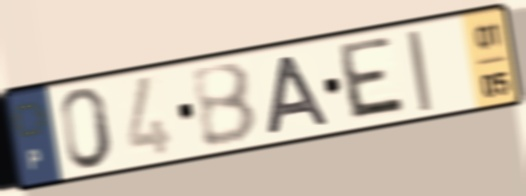0: (57, 85, 115, 173)
4: (124, 71, 176, 162)
A: (263, 52, 333, 139)
B: (187, 58, 262, 151)
E: (337, 33, 411, 124)
I: (402, 25, 436, 116)
